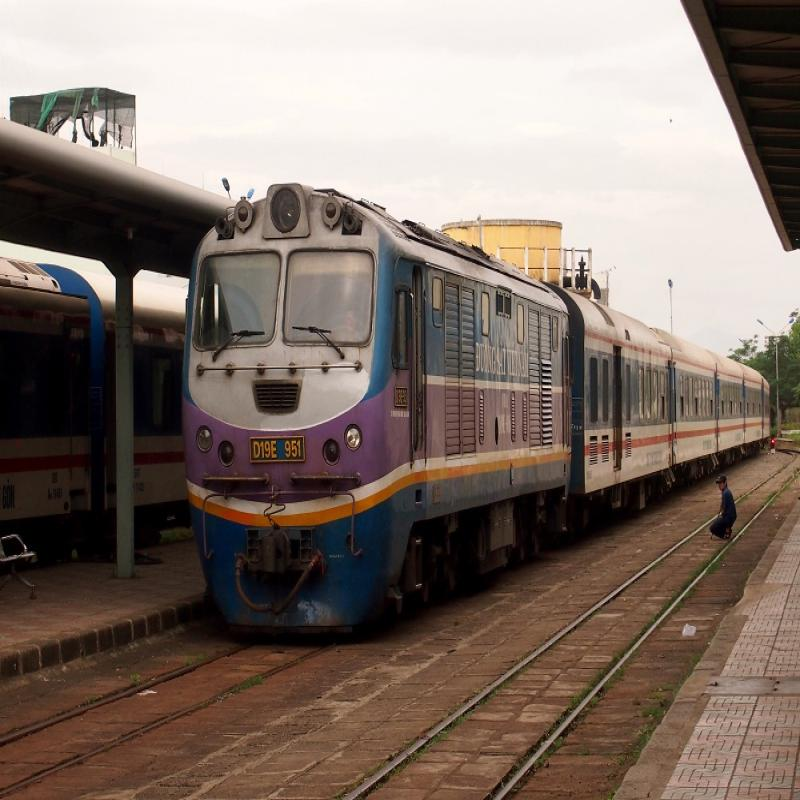train: (167, 183, 696, 584)
